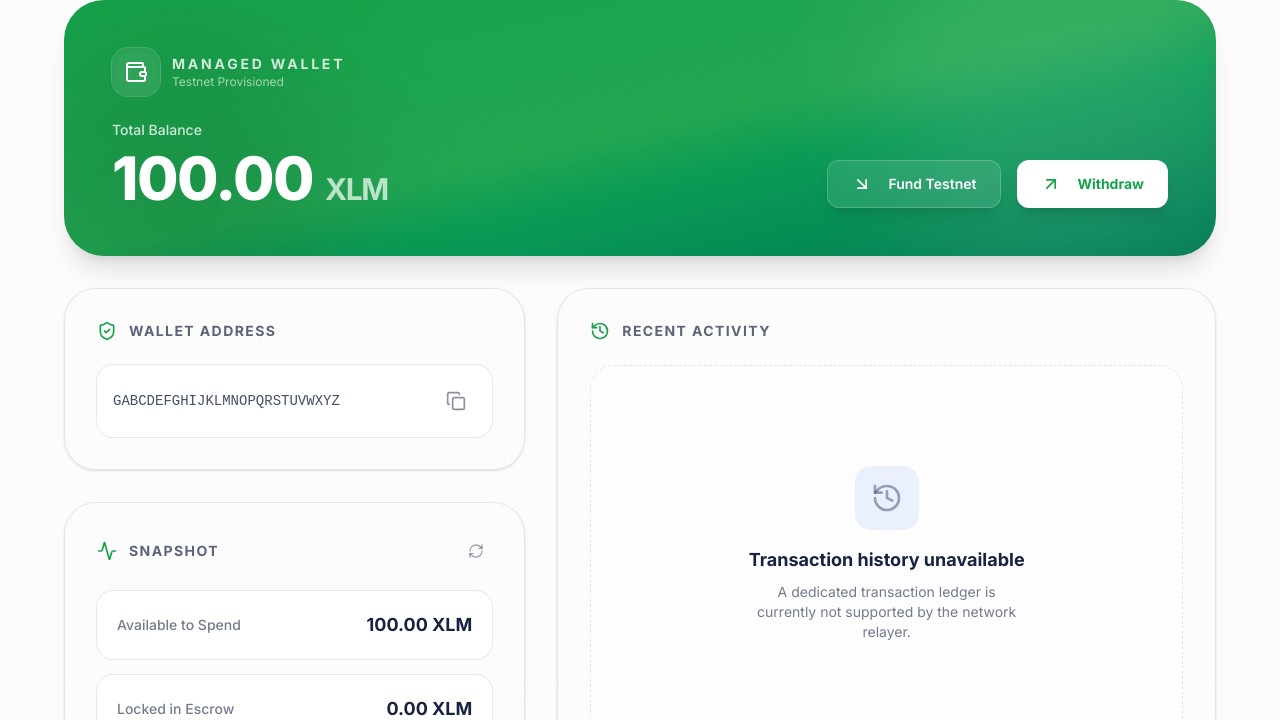
Test case: Wallet Page › handles withdrawal submission
expect the text "100.00 XLM" is shown: met, box [366,611,472,639]
Note: Open Modal
Click the button "Withdraw" at (1093, 184), box [1017,160,1168,208]
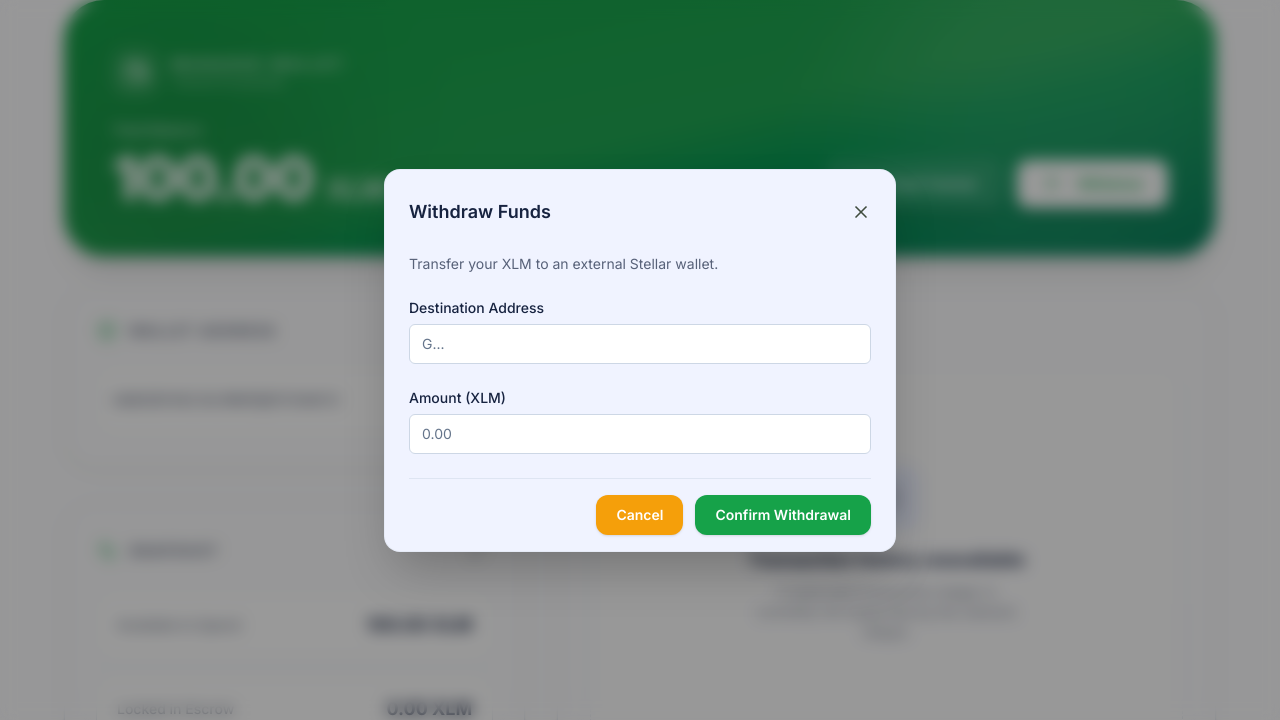
expect the dialog "Withdraw Funds" is shown: met
Type "GAOLDMIQ7HE4L7BQRVK6X5RW3N74MACJVVG3TZPEYG5OLESBQJZQMQ26" into the field labelled "Destination Address" at (640, 344), box [409,324,871,364]
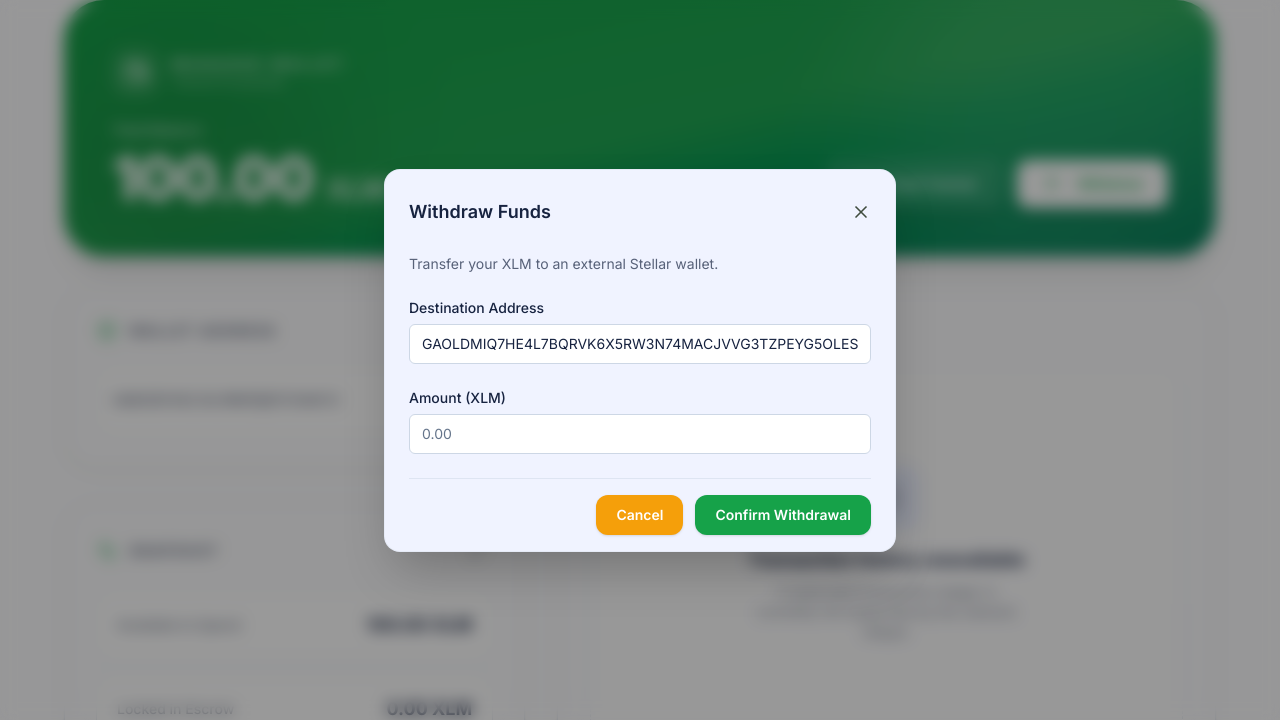
Type "50" into the field labelled "Amount (XLM)" at (640, 434), box [409,414,871,454]
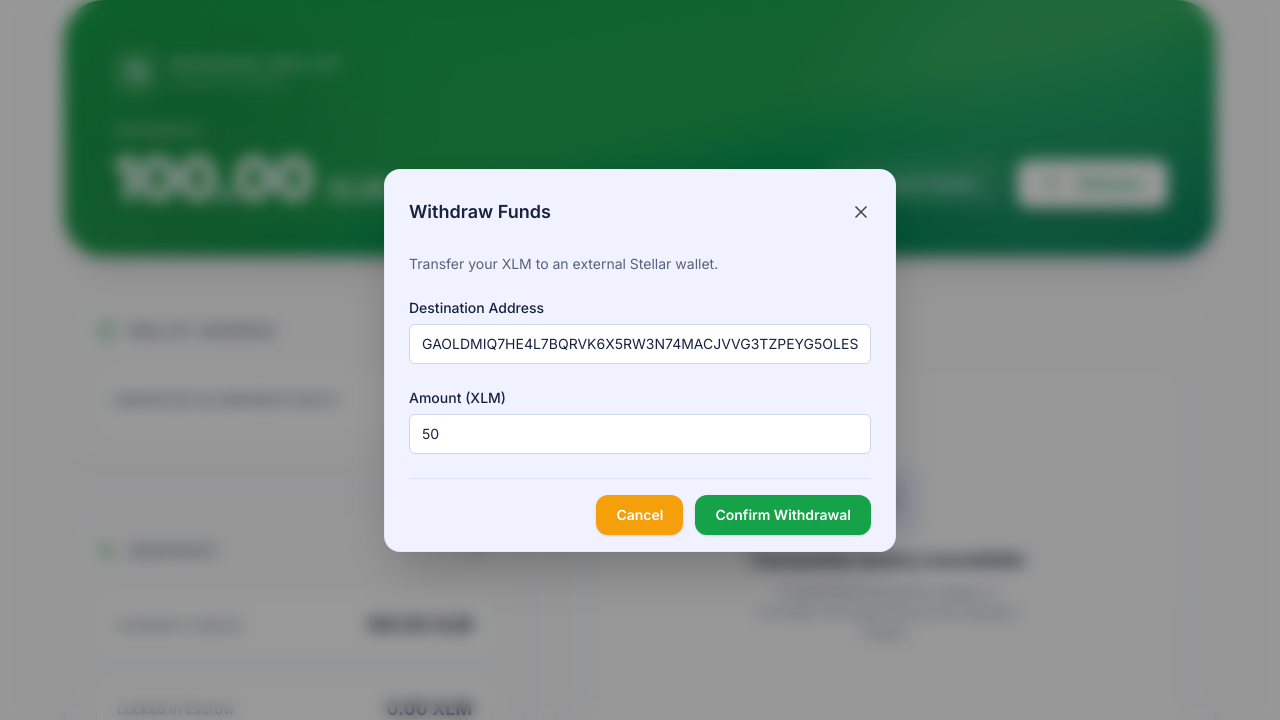
Click the button "Confirm Withdrawal" at (783, 514), box [696,494,871,534]
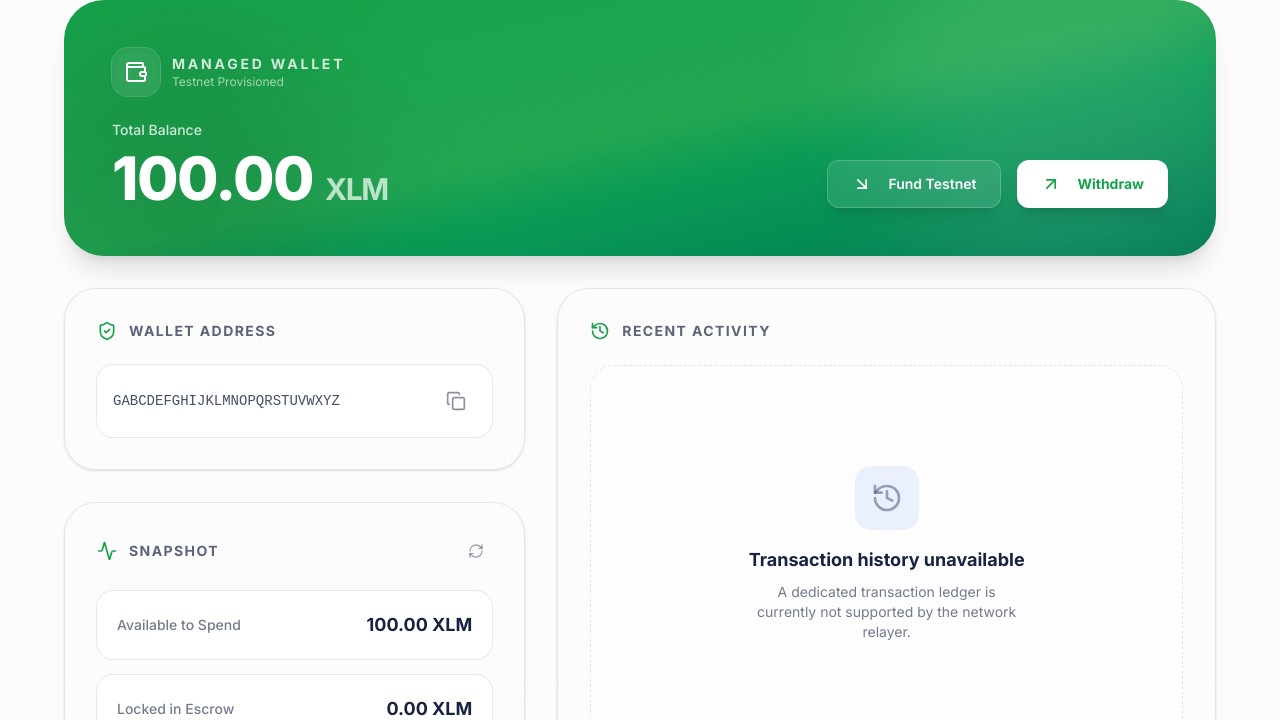
expect the dialog is gone: met
